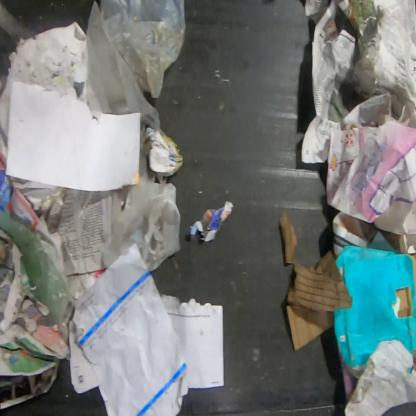cardboard: (332, 244, 416, 381), (278, 209, 352, 352), (351, 0, 415, 128)
soft_plastic: (85, 0, 187, 155), (100, 148, 183, 274), (0, 209, 73, 326)
